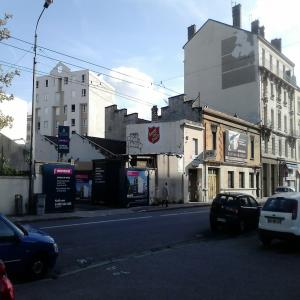Vehicle-registration-plate: (218, 219, 226, 224)
